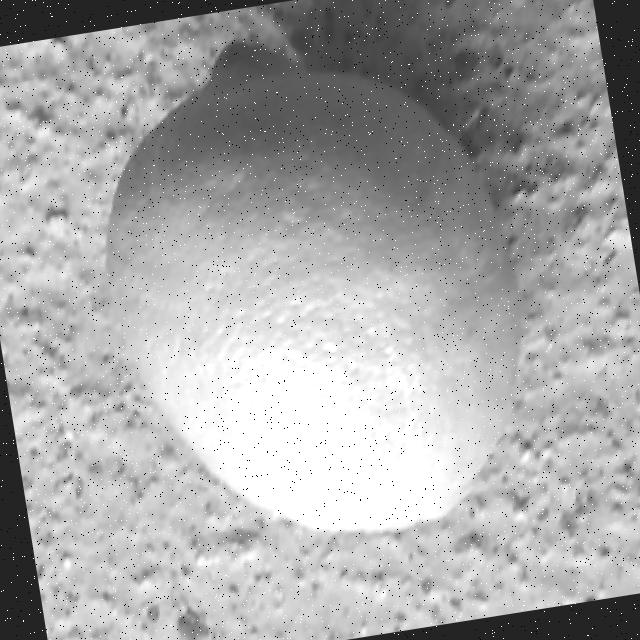Lemon: (71, 1, 556, 572)
